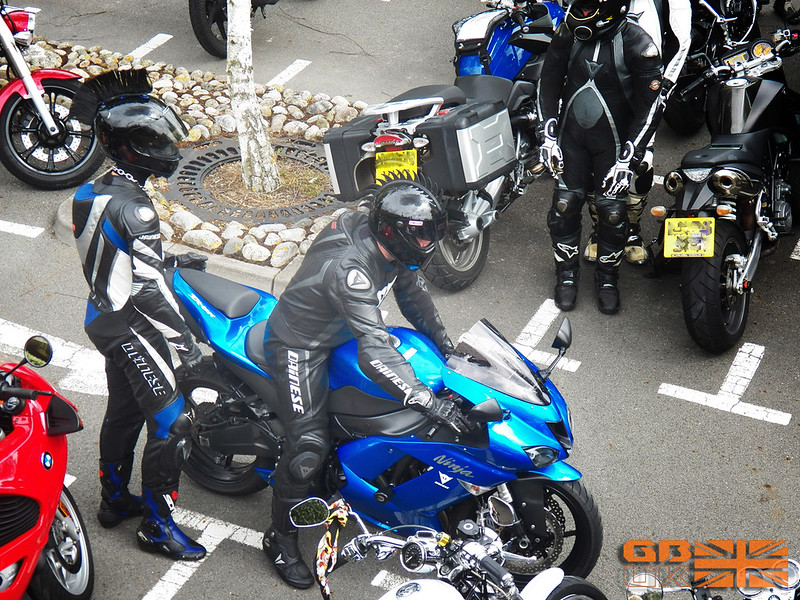helmet: (100, 90, 184, 188), (370, 181, 446, 262)
